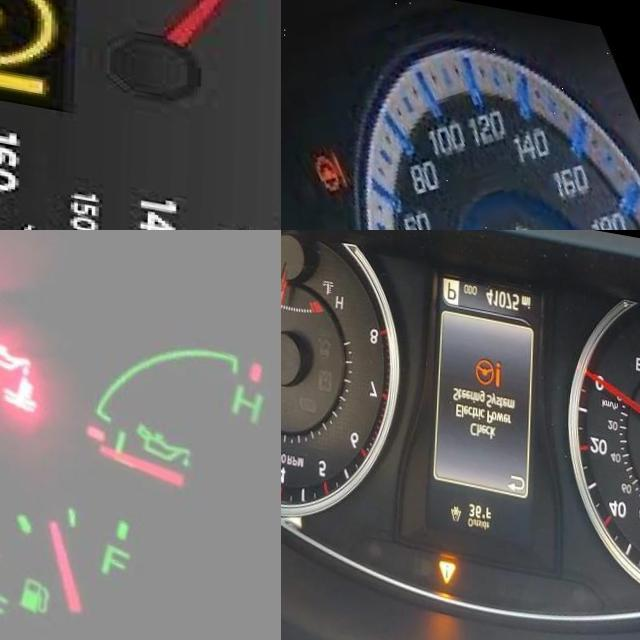Electronic Power Steering: (0, 0, 62, 98), (473, 342, 508, 381)
Electronic Power Steering Warning: (312, 140, 354, 191)
Engine cooling system: (0, 357, 42, 405)
Low fuel level: (13, 562, 52, 609)
